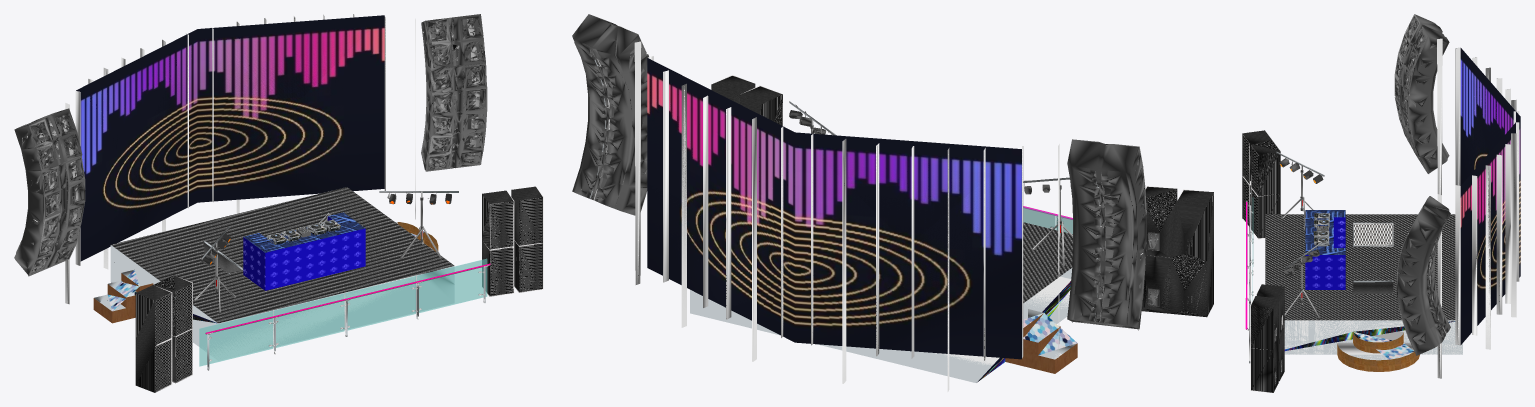
The model's file is dj-stage.glb.
The picture shows the model from 3 angles, left to right: view 1: azimuth 30°, elevation 25°; view 2: azimuth 150°, elevation 25°; view 3: azimuth 270°, elevation 25°; orthographic projection. The views are drawn at different scales.
Parts seen in each view (by area): view 1: Mesh1520_Material #2_0, Mesh1891_Metal_Steel_Textured_0, Mesh133_Color_008_0, Mesh1174_Translucent_Glass_Blue_0, Mesh1_BackColor_0, Mesh709__Fencing_Diamond_Mesh_1_0, Mesh703__Carpet_Plush_Charcoal_1_0, Mesh1891_Tile_Navy_0, Mesh133_Color_007_0, Mesh42_FrontColor_0, Mesh1521_Mirror_02_0, Mesh1190_Gray6_0 (+6 smaller); view 2: Mesh1520_Material #2_0, Mesh133_Color_008_0, Mesh1521_Mirror_02_0, Mesh703__Carpet_Plush_Charcoal_1_0, Mesh1_BackColor_0, Mesh1891_Metal_Steel_Textured_0, Mesh1891_Wood_Veneer_01_0, Mesh42_FrontColor_0, Mesh1891_Mosaic_Hexagonal_Tile_0, Mesh1174_Translucent_Glass_Blue_0; view 3: Mesh133_Color_008_0, Mesh1891_Metal_Steel_Textured_0, Mesh1520_Material #2_0, Mesh1521_Mirror_02_0, Mesh703__Carpet_Plush_Charcoal_1_0, Mesh1_BackColor_0, Mesh42_FrontColor_0, Mesh1891_Wood_Floor_Parquet_0, Mesh1891_Tile_Navy_0, Mesh709__Fencing_Diamond_Mesh_1_0, Mesh1891_Carrera_Marble_0, Mesh133_Fencing_Diamond_Mesh_0 (+9 smaller).
Boxes of the visible parts, left/top/right/bottom form: Mesh1520_Material #2_0: left=76, top=15, right=384, bottom=261; Mesh1891_Metal_Steel_Textured_0: left=111, top=187, right=454, bottom=323; Mesh133_Color_008_0: left=14, top=14, right=487, bottom=276; Mesh1174_Translucent_Glass_Blue_0: left=199, top=258, right=487, bottom=366; Mesh1_BackColor_0: left=94, top=36, right=490, bottom=370; Mesh709__Fencing_Diamond_Mesh_1_0: left=155, top=197, right=542, bottom=391; Mesh703__Carpet_Plush_Charcoal_1_0: left=135, top=186, right=542, bottom=392; Mesh1891_Tile_Navy_0: left=243, top=228, right=365, bottom=290; Mesh133_Color_007_0: left=29, top=18, right=452, bottom=273; Mesh42_FrontColor_0: left=22, top=32, right=484, bottom=370; Mesh1521_Mirror_02_0: left=65, top=14, right=415, bottom=304; Mesh1190_Gray6_0: left=37, top=19, right=480, bottom=268; Mesh1520_Material #2_0: left=647, top=58, right=1021, bottom=359; Mesh133_Color_008_0: left=572, top=14, right=1146, bottom=329; Mesh1521_Mirror_02_0: left=634, top=41, right=1059, bottom=391; Mesh703__Carpet_Plush_Charcoal_1_0: left=711, top=76, right=1213, bottom=317; Mesh1_BackColor_0: left=589, top=59, right=1157, bottom=382; Mesh1891_Metal_Steel_Textured_0: left=1023, top=222, right=1072, bottom=302; Mesh1891_Wood_Veneer_01_0: left=1005, top=313, right=1077, bottom=373; Mesh42_FrontColor_0: left=593, top=53, right=1158, bottom=365; Mesh1891_Mosaic_Hexagonal_Tile_0: left=1023, top=313, right=1077, bottom=355; Mesh1174_Translucent_Glass_Blue_0: left=1023, top=207, right=1072, bottom=233; Mesh133_Color_008_0: left=1279, top=14, right=1450, bottom=355; Mesh1891_Metal_Steel_Textured_0: left=1265, top=214, right=1455, bottom=320; Mesh1520_Material #2_0: left=1460, top=48, right=1520, bottom=344; Mesh1521_Mirror_02_0: left=1437, top=38, right=1519, bottom=378; Mesh703__Carpet_Plush_Charcoal_1_0: left=1242, top=130, right=1284, bottom=392; Mesh1_BackColor_0: left=1245, top=192, right=1462, bottom=377; Mesh42_FrontColor_0: left=1249, top=53, right=1462, bottom=362; Mesh1891_Wood_Floor_Parquet_0: left=1337, top=332, right=1419, bottom=371; Mesh1891_Tile_Navy_0: left=1305, top=255, right=1345, bottom=289; Mesh709__Fencing_Diamond_Mesh_1_0: left=1242, top=134, right=1257, bottom=237; Mesh1891_Carrera_Marble_0: left=1305, top=210, right=1345, bottom=254; Mesh133_Fencing_Diamond_Mesh_0: left=1354, top=223, right=1392, bottom=245.
Bounding box in the file's own units: 3.27 × 1.4 × 1.87.
74 materials, 24 textured.
